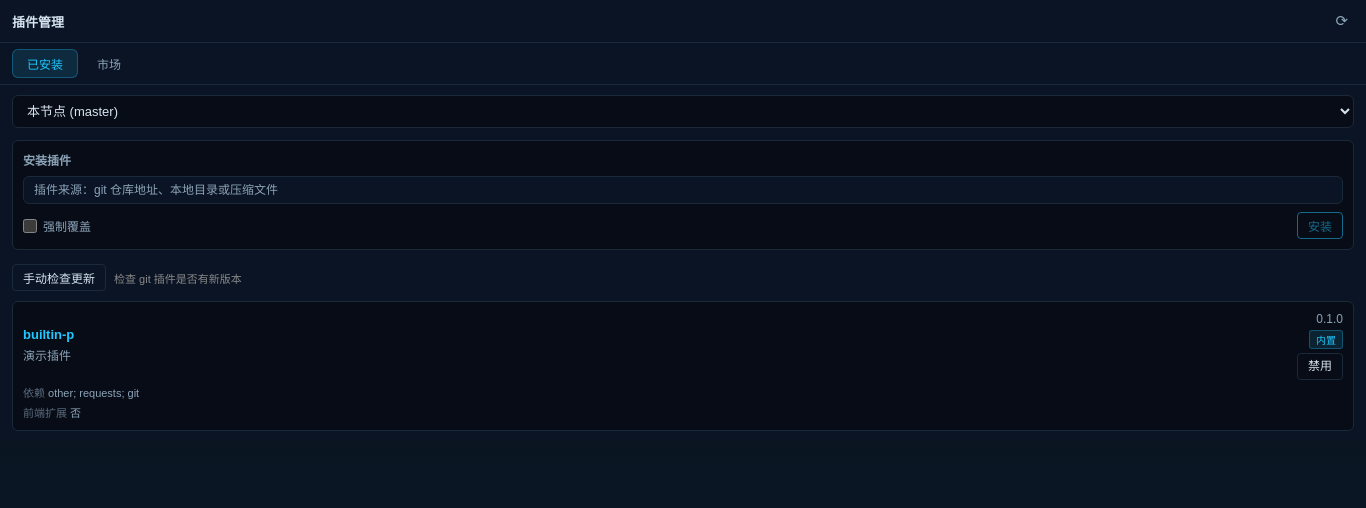
Scenario: PluginSidebar › 内置插件不显示升级按钮，右键菜单无卸载项，并显示内置标记
// 右键菜单对内置插件仍可用，但无「卸载」项
Right-click the element showing "builtin-p 演示插件 0.1.0 内置 禁用 依赖 other; requests; git 前端扩展 否" at x=683, y=366, box [12, 301, 1354, 431]
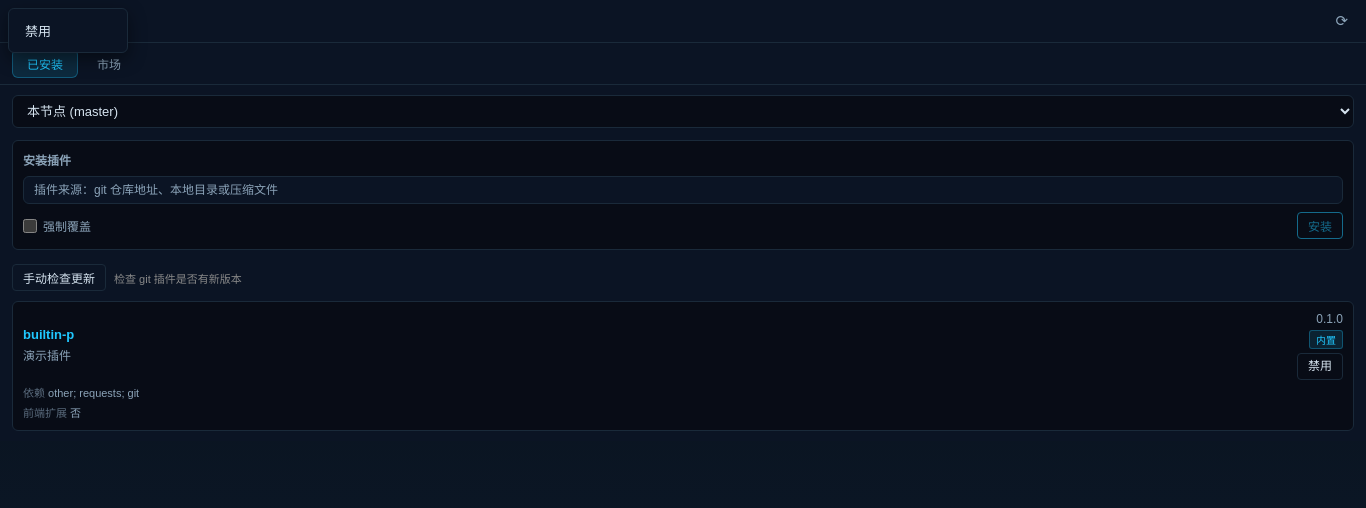
Expected: the element showing "禁用" is shown, [8, 8, 128, 53]
